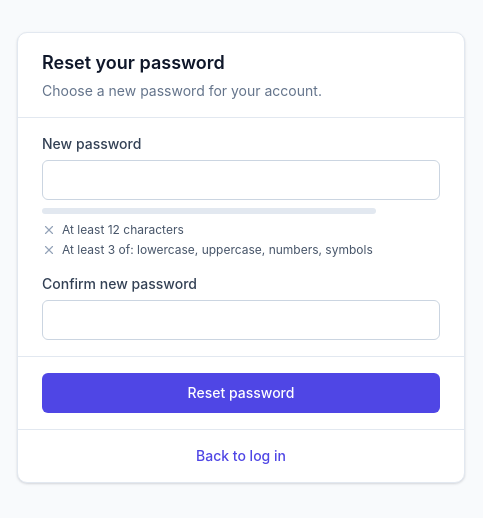
Test case: ResetPasswordPage › a policy-violating new password (server round trip) renders the violation inline
Type "CorrectHorse1!" into the password field labelled "New password" at [241, 180], box [42,160,440,200]
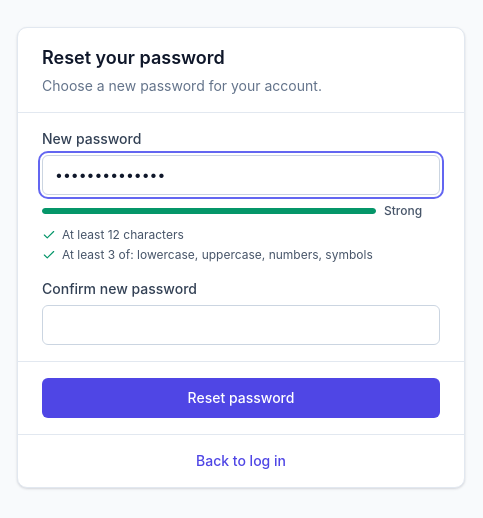
Type "CorrectHorse1!" into the password field labelled "Confirm new password" at [241, 324], box [42,304,440,344]
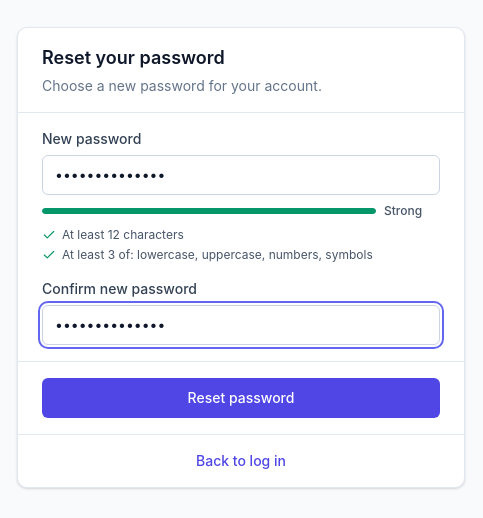
Click the button "Reset password" at [241, 398], box [42,378,440,418]
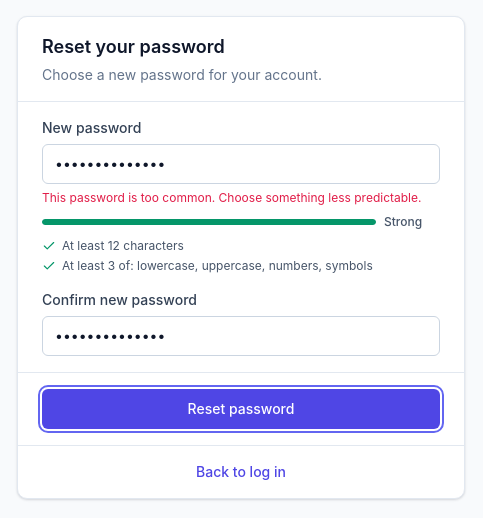
Expected: the text "This password is too common. Choose something less predictable." is shown, [42,190,440,206]
